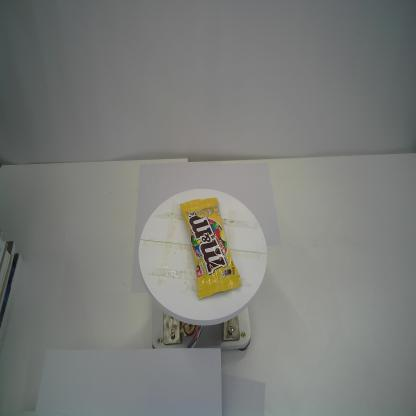Chocolate: (179, 198, 242, 300)
